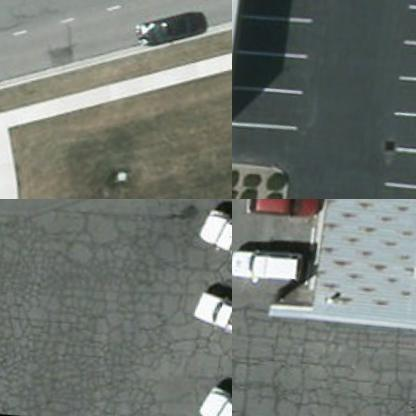car: (130, 1, 210, 65), (232, 244, 306, 294), (244, 199, 323, 236)
pickup: (188, 284, 231, 357)
truck: (192, 211, 231, 299), (191, 378, 231, 415)
